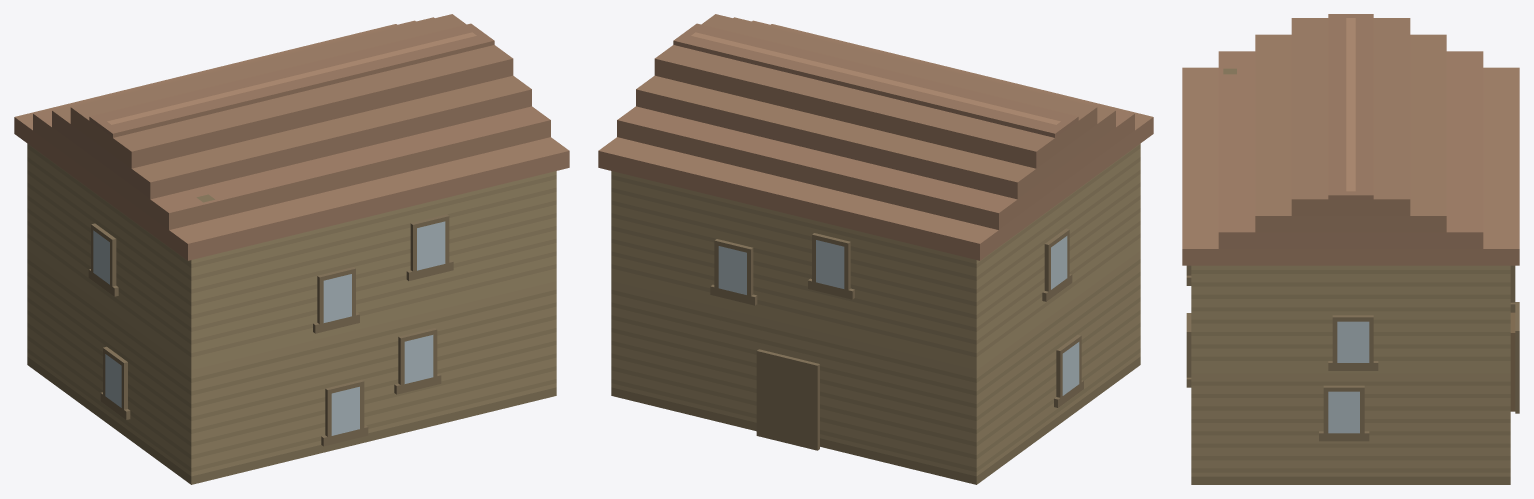
The model's file is taller_sastre_01.glb.
The picture shows the model from 3 angles, left to right: view 1: azimuth 30°, elevation 25°; view 2: azimuth 150°, elevation 25°; view 3: azimuth 270°, elevation 25°; orthographic projection. The views are drawn at different scales.
Visible parts, largest first — view 1: taller_sastre_01; view 2: taller_sastre_01; view 3: taller_sastre_01.
Boxes of the visible parts, x1,y1,x2,y2 form: taller_sastre_01: (14,14,569,484); taller_sastre_01: (598,14,1153,484); taller_sastre_01: (1182,14,1519,484).
Size of the model in its own units: 9.4 by 7.1 by 7.4.
